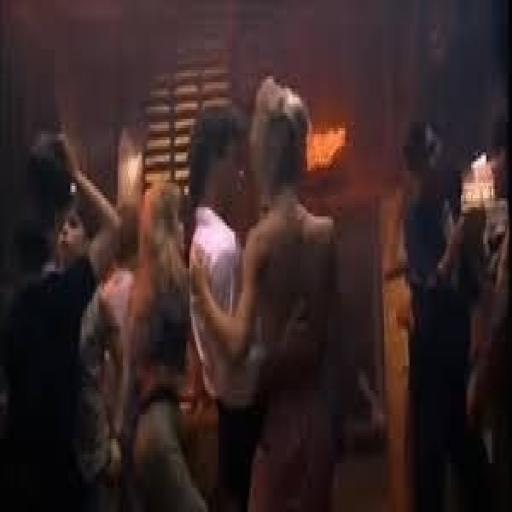dancing: (135, 73, 352, 484), (377, 52, 512, 509)
